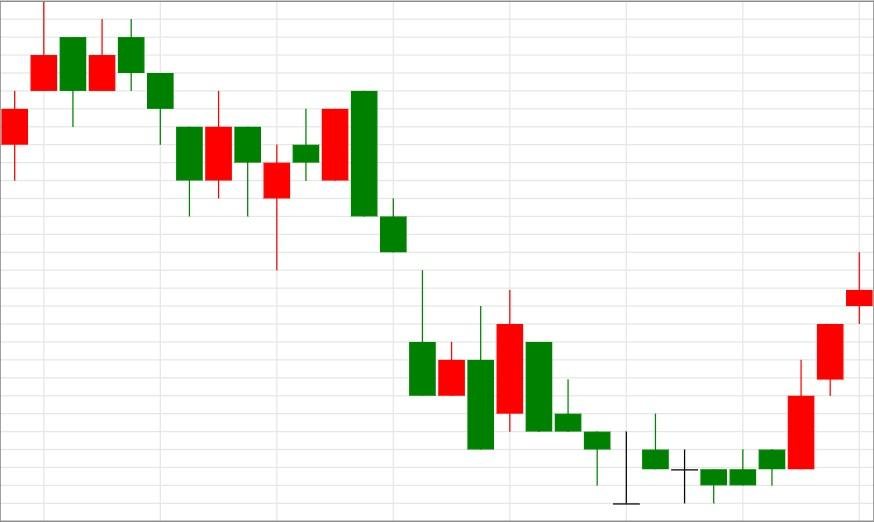bearish_engulfing_fall: (263, 90, 378, 270)
three_black_crows_fall: (0, 0, 204, 217)
three_white_soldiers_rise: (641, 252, 874, 504)
